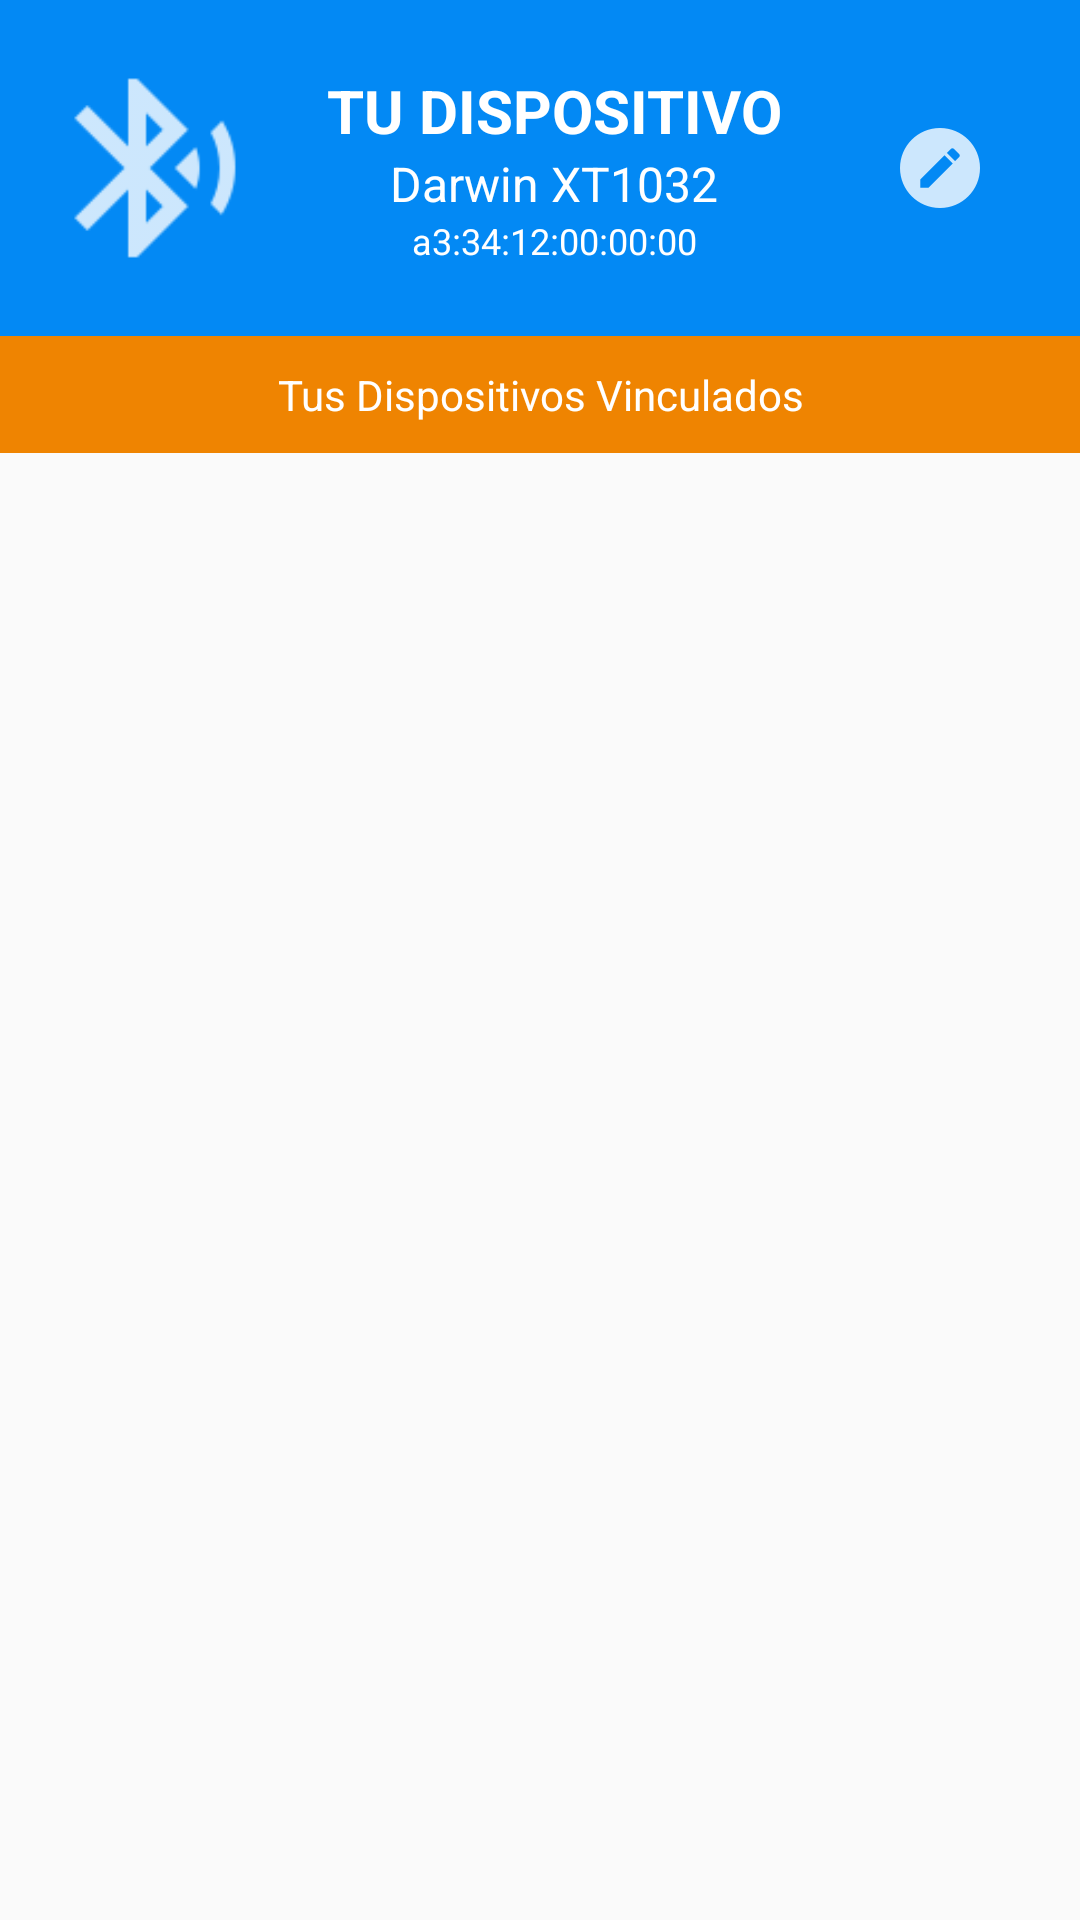

Point at icon controls on the screen. Image size 1080*1920, points as [x,y].
pencil circle: [940,168]
